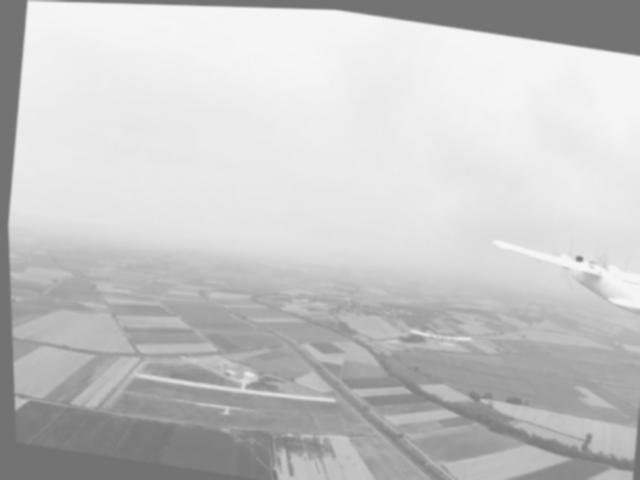hedef: (476, 213, 640, 323)
